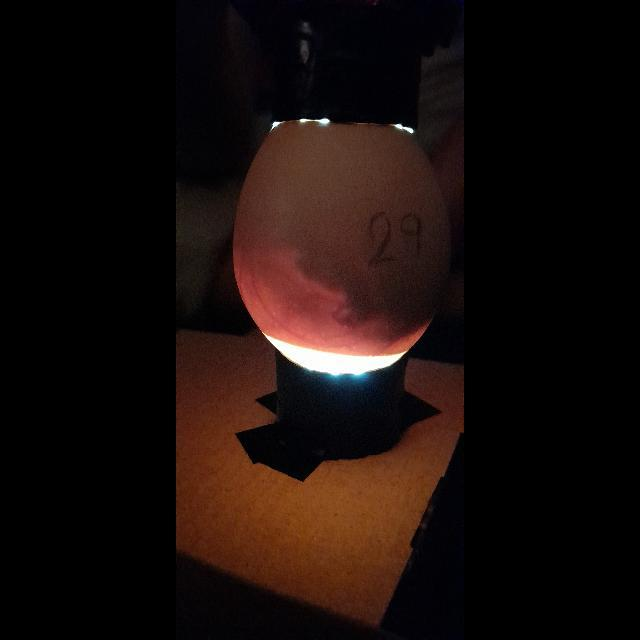Fertile: (238, 114, 444, 384)
